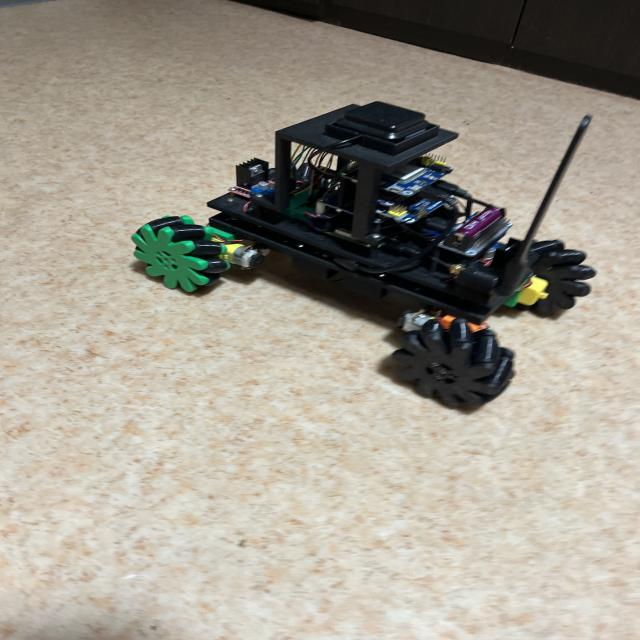robot: (132, 102, 596, 407)
